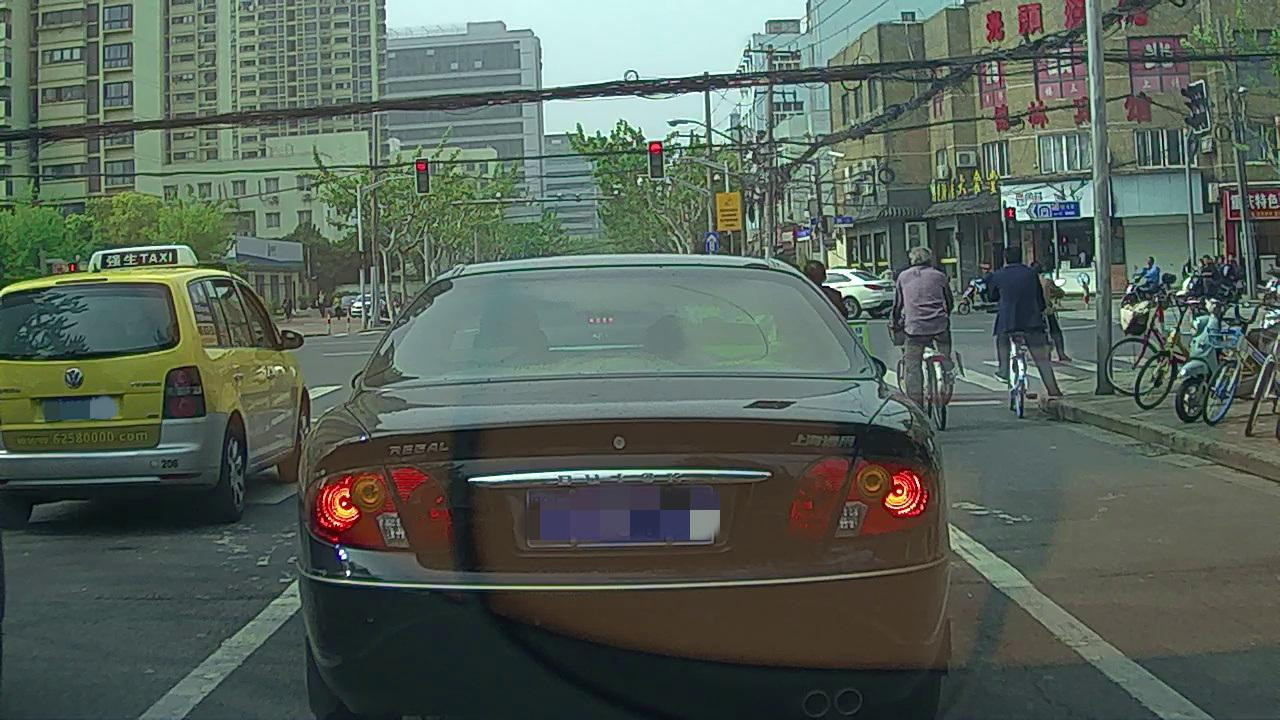traffic_light: (650, 143, 664, 179), (416, 159, 429, 194)
